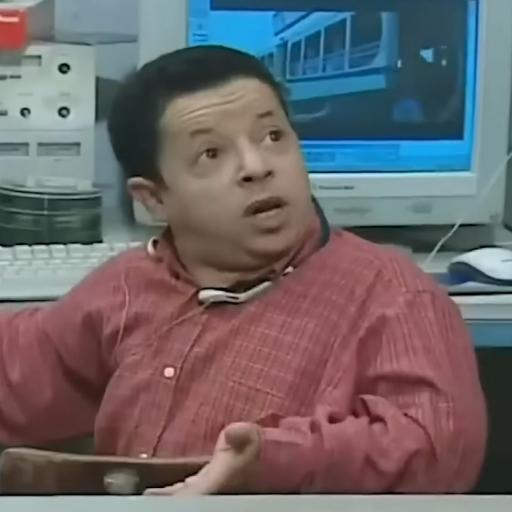fouchika: (108, 46, 321, 286)
